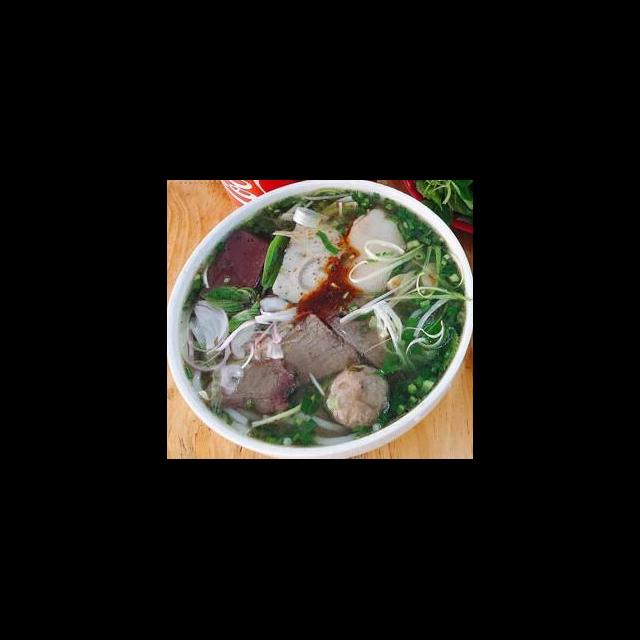bun: (210, 394, 362, 450)
thit heo: (321, 290, 402, 376), (200, 350, 297, 418), (278, 312, 364, 388)
